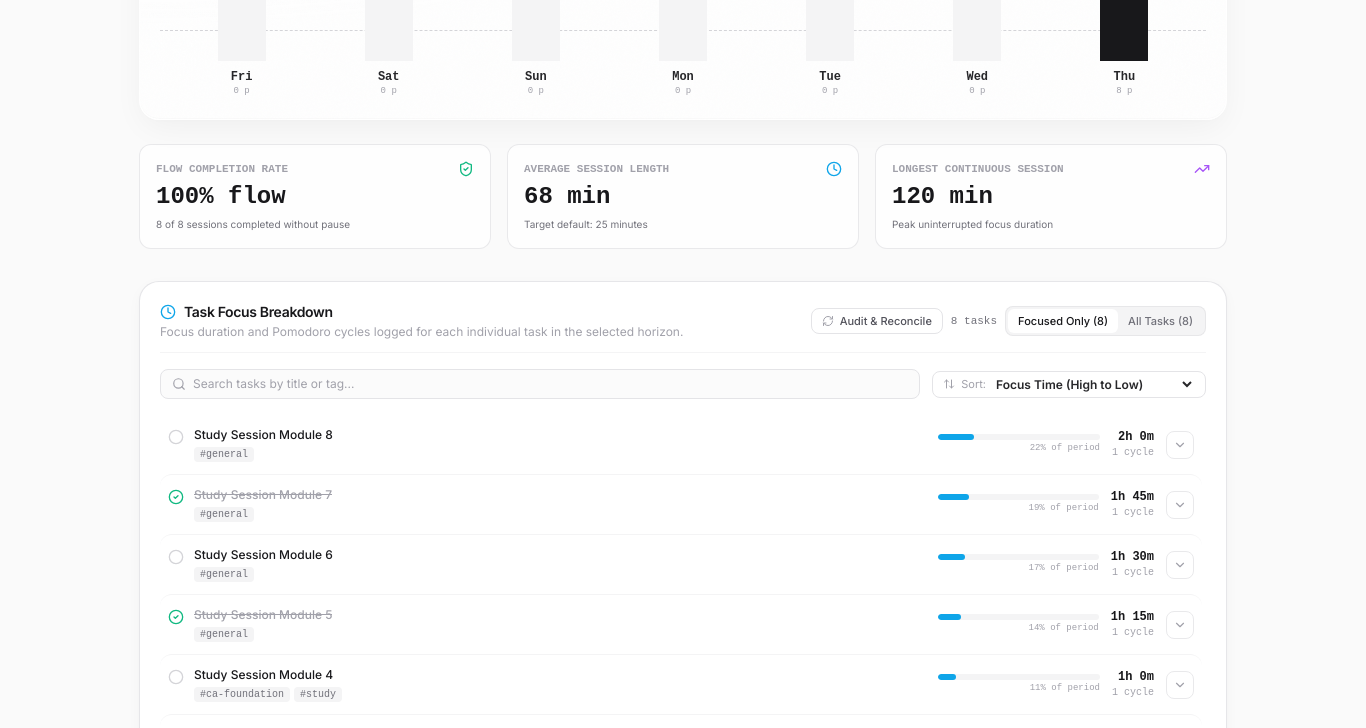
Test: NAYRA Decluttered Analytics (v2.5.1) — Component Integration & Full Task Breakdown › filters tasks interactively using search input
(page scrolled)
Search for Module 7
In the field with placeholder "Search tasks by title or tag...": (540, 384) 160,369 -> 920,399, type "Module 7"
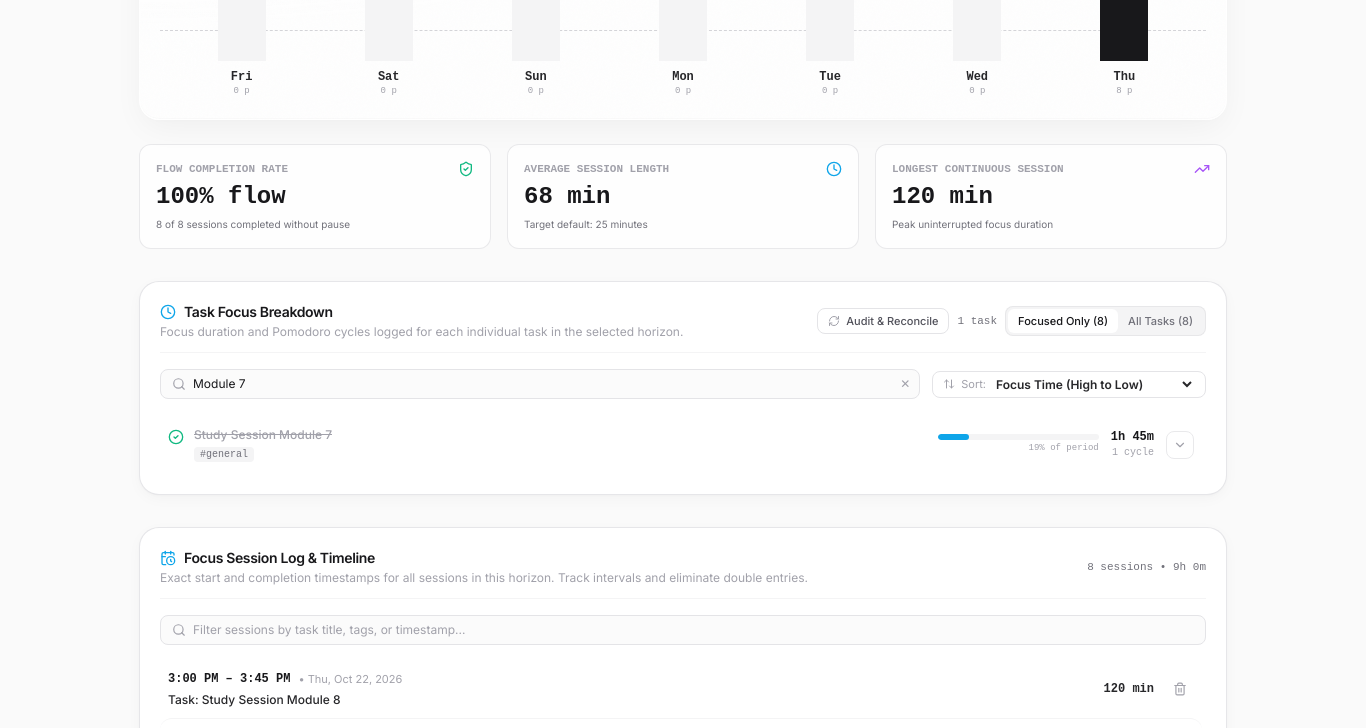
Expected: the text "Study Session Module 7" is shown, 194,427 -> 332,443
Expected: the text "Study Session Module 1" is not shown
Clear search
Clear the field with placeholder "Search tasks by title or tag...": (540, 384) 160,369 -> 920,399
(page scrolled)
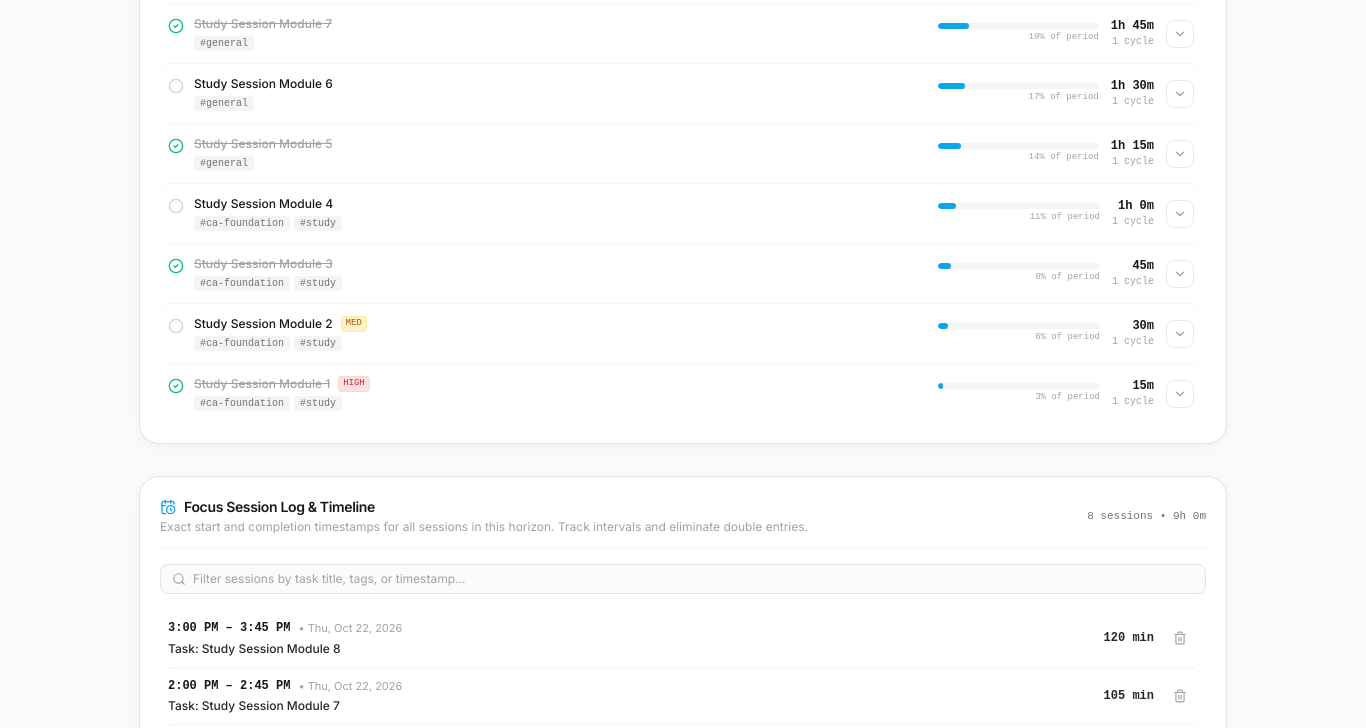
Now the text "Study Session Module 1" is shown, box 194,376 -> 330,392
